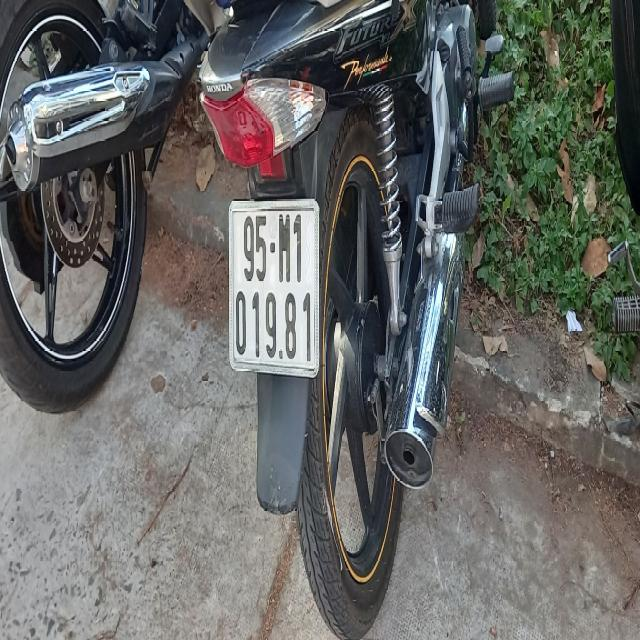0: (235, 291, 249, 358)
1: (302, 291, 312, 364), (252, 291, 262, 357), (294, 212, 302, 284)
5: (255, 212, 268, 282)
8: (286, 290, 297, 360)
9: (264, 288, 277, 362), (243, 215, 255, 279)
M: (278, 212, 291, 283)
